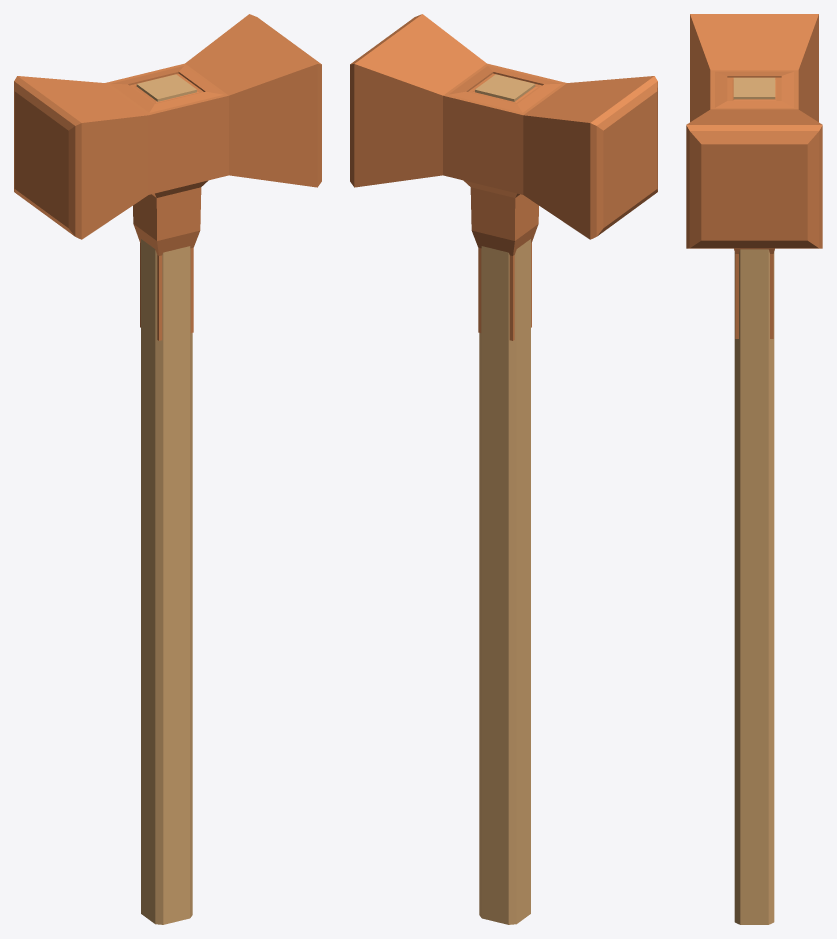
Rendered from Hammer.glb.
The picture shows the model from 3 angles, left to right: view 1: azimuth 30°, elevation 25°; view 2: azimuth 150°, elevation 25°; view 3: azimuth 270°, elevation 25°; orthographic projection.
Parts seen in each view (by area): view 1: ciocan, coada; view 2: ciocan, coada; view 3: ciocan, coada.
Part boxes in pixels (<box>): ciocan: <box>14,14,321,340</box>; coada: <box>136,74,196,924</box>; ciocan: <box>350,14,657,340</box>; coada: <box>475,74,535,924</box>; ciocan: <box>686,14,822,338</box>; coada: <box>733,77,775,924</box>.
Bounding box in the file's own units: 8.28 × 26.44 × 3.86.
